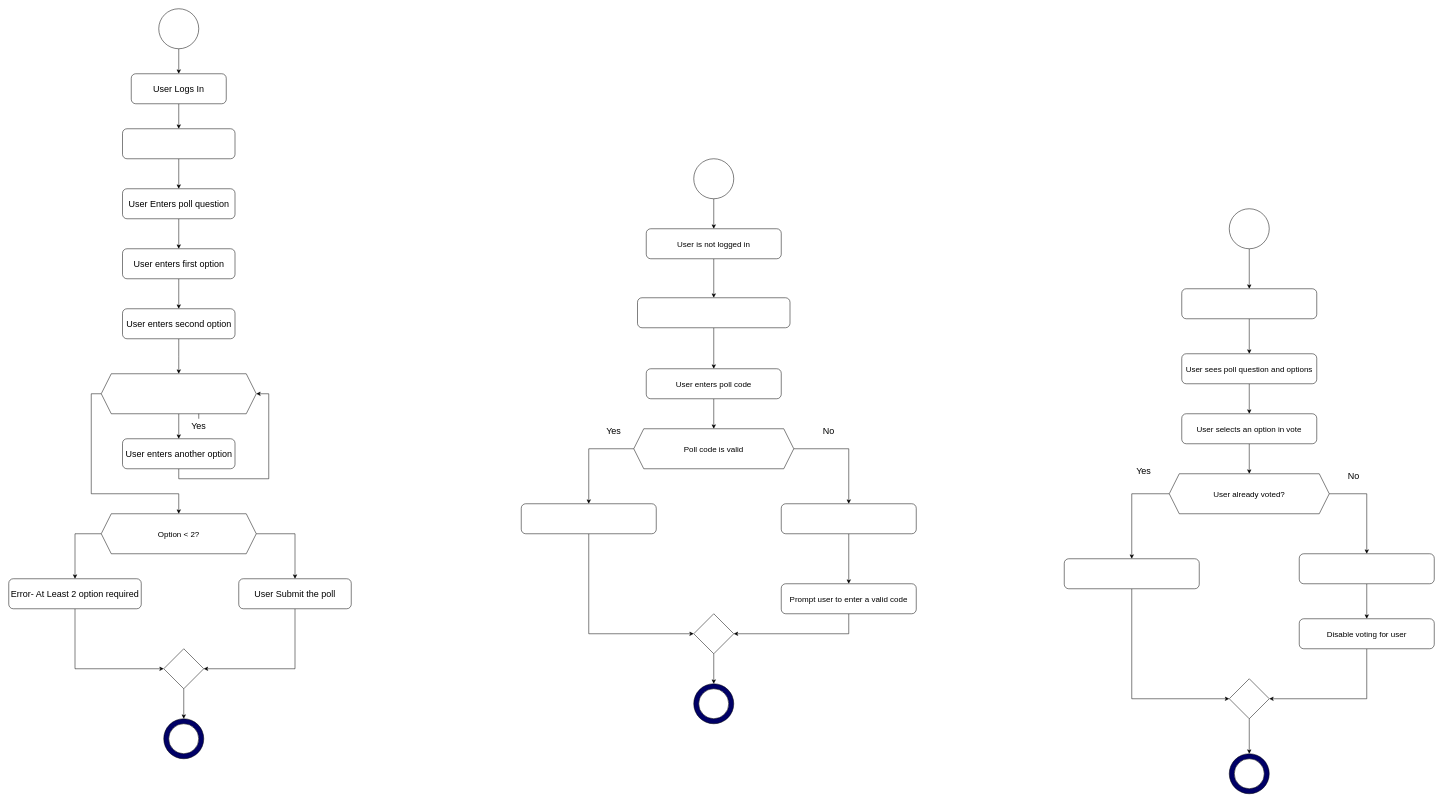
This 1443x803 diagram has some shape labels left out. The shapes that lost their labels are listed below. From the top down, each one's centre as x and y in pixels, then its label:
point 178,143: User selects "Create Poll"
point 713,312: User selects "Enter Poll Room"
point 1249,303: User enter poll room
point 178,393: User wants to add another option
point 588,518: Enter poll room
point 848,518: Error- Invalid poll code
point 1131,573: Error- User has already voted
point 1366,568: Record vote
